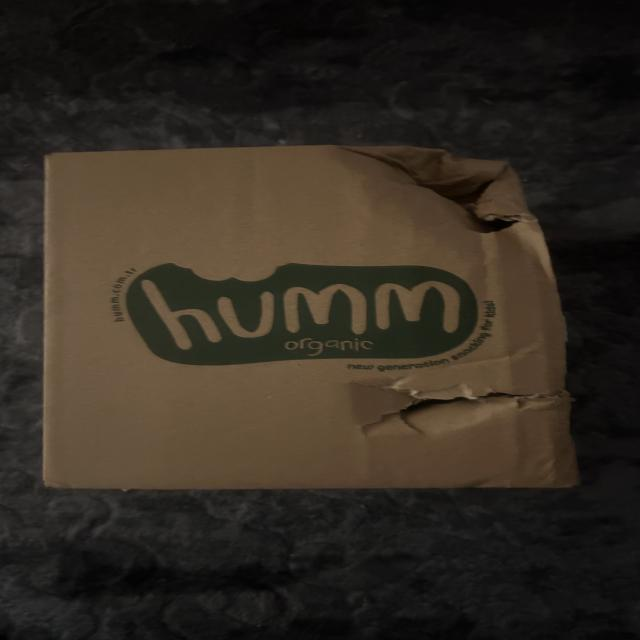damaged: (31, 138, 591, 504), (339, 127, 555, 254), (322, 364, 574, 446)
